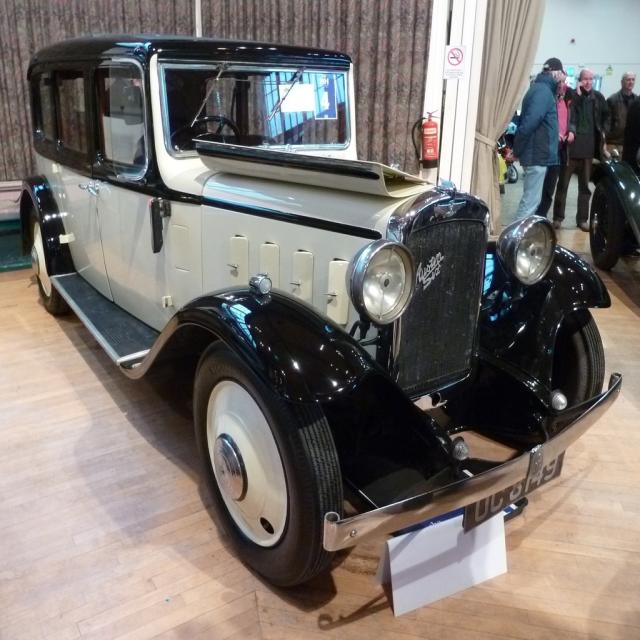car: (10, 20, 599, 621)
